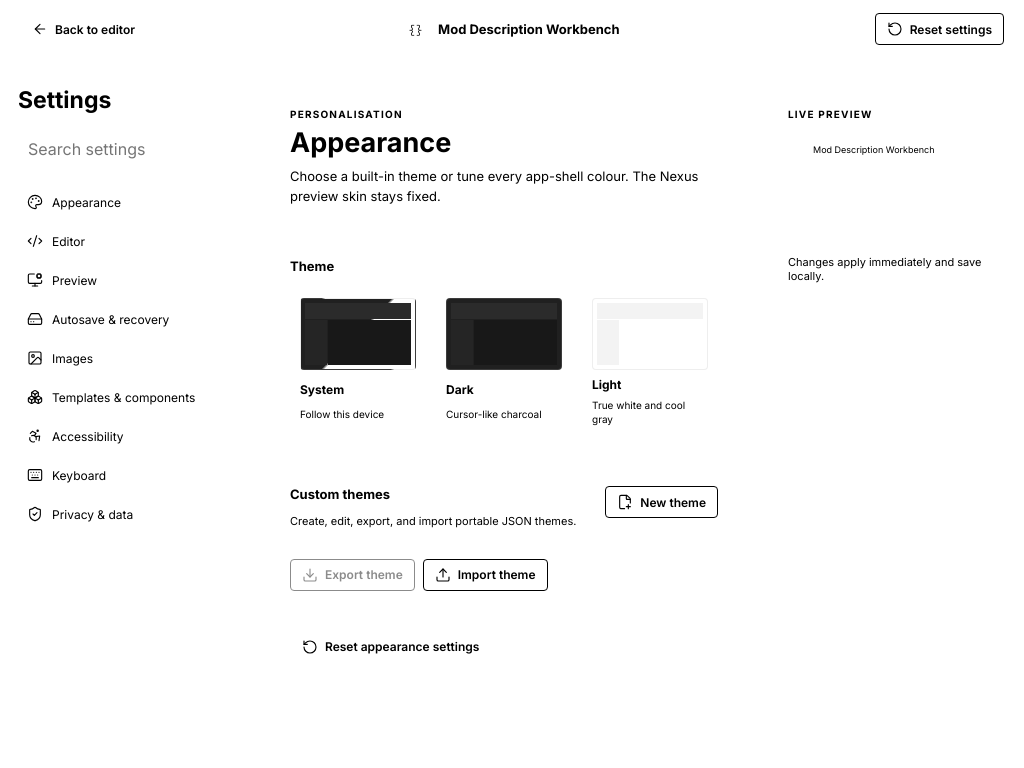
Test: SettingsPage › lists the expanded source-editor shortcut reference
Click the button "Keyboard" at (122, 475), box [18,457,226,493]
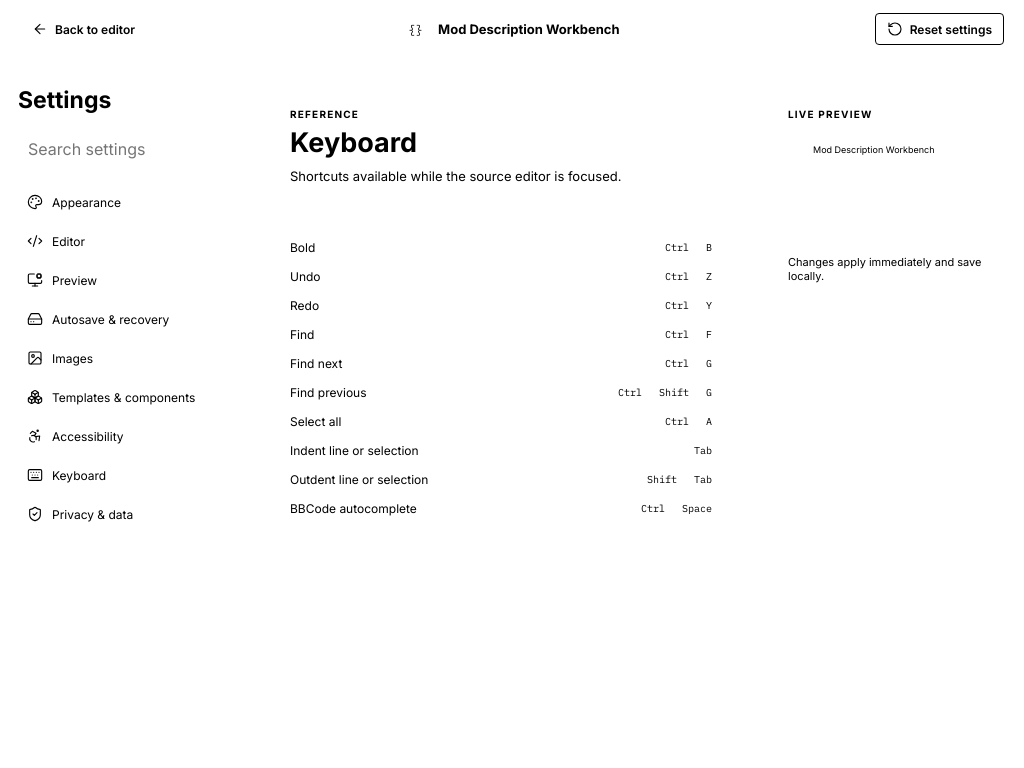
Check: the text "Undo" is shown, box [290,269,321,284]
Check: the text "Redo" is shown, box [290,298,319,313]
Check: the text "Find previous" is shown, box [290,385,366,400]
